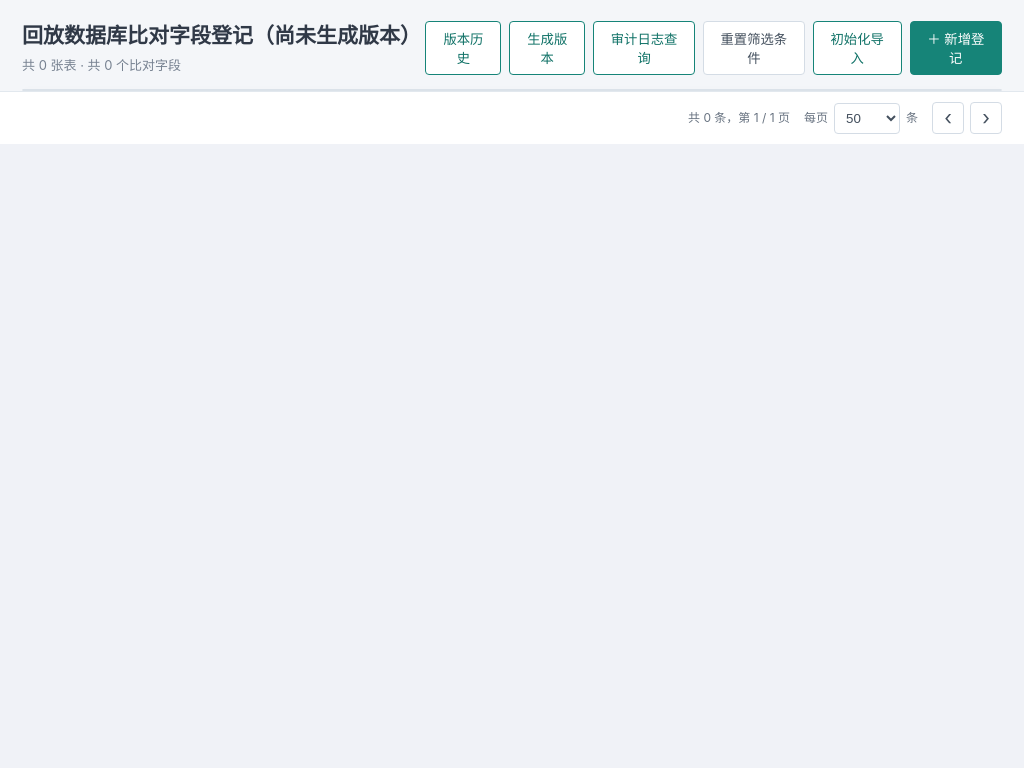
Test: ReplayDatabaseComparisonPage › keeps and displays the complete strict-gate failure list
Click the button with test id "generate-version" at (547, 48), box top-left (509, 20), bottom-right (585, 74)
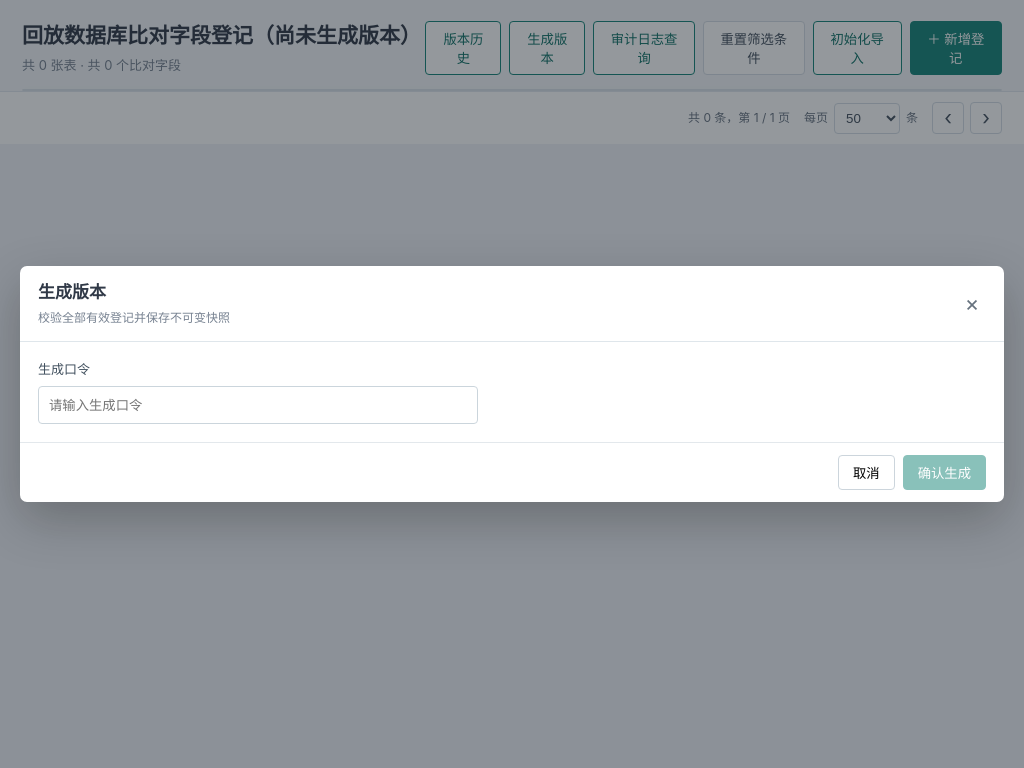
Type "secret" into the password field with test id "generation-token" at (258, 405), box top-left (38, 386), bottom-right (478, 424)
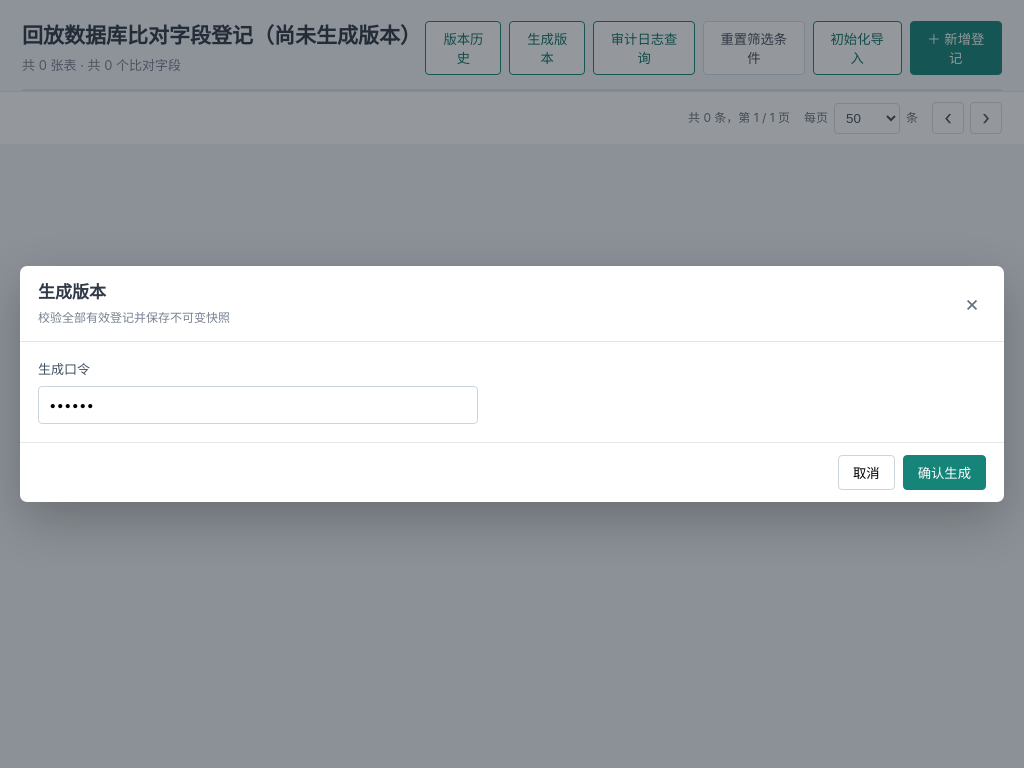
Click the button with test id "confirm-generate-version" at (944, 472), box top-left (903, 455), bottom-right (986, 490)
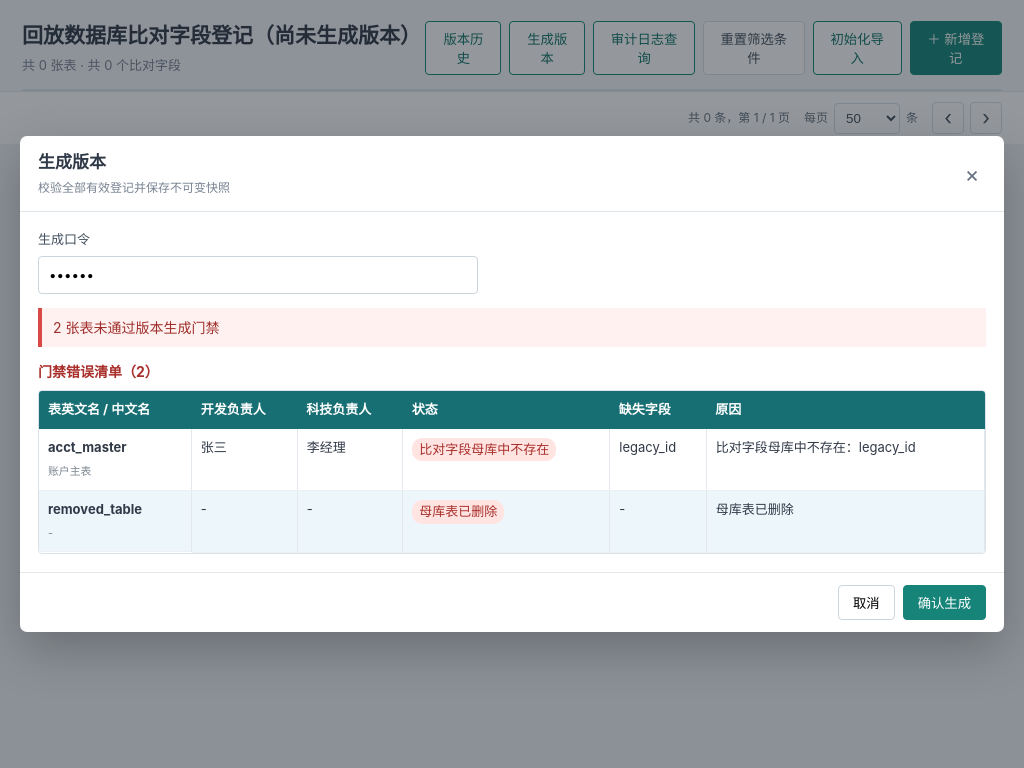
Check: the number of rows with test id "generation-gate-error-row" is 2, box top-left (39, 429), bottom-right (984, 490); top-left (39, 490), bottom-right (984, 552)
Check: the element with test id "generation-gate-errors" shows "legacy_id", box top-left (619, 439), bottom-right (676, 455)
Check: the element with test id "generation-gate-errors" shows "母库表已删除", box top-left (419, 503), bottom-right (497, 519)
